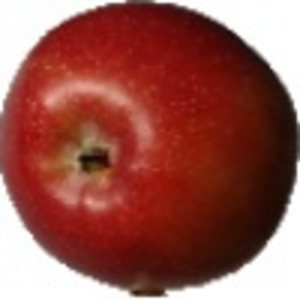maçã braeburn: (1, 1, 297, 289)
